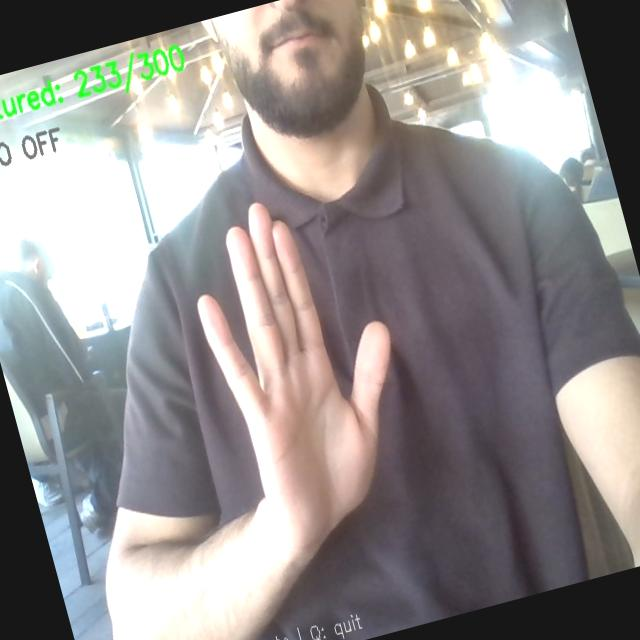Hand: (199, 204, 390, 552)
